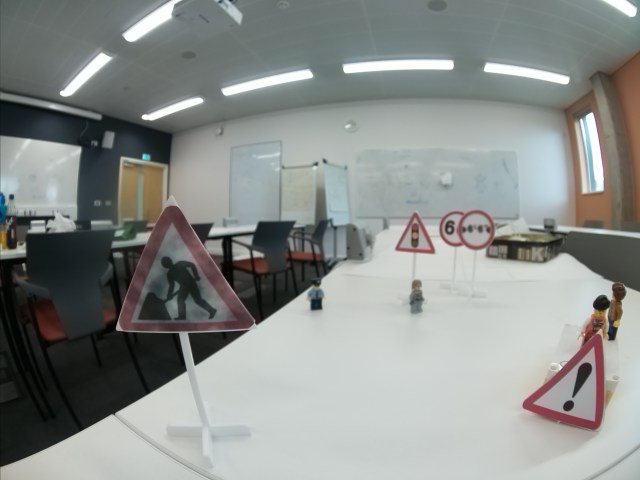60mph: (438, 211, 463, 246)
6ft6: (459, 210, 495, 249)
Lego Man: (580, 295, 610, 342), (609, 281, 626, 340), (306, 278, 326, 311), (409, 279, 427, 315)
Roadworks: (115, 205, 255, 334)
Traffic lights: (395, 211, 437, 254)
Warning: (523, 335, 615, 433)
